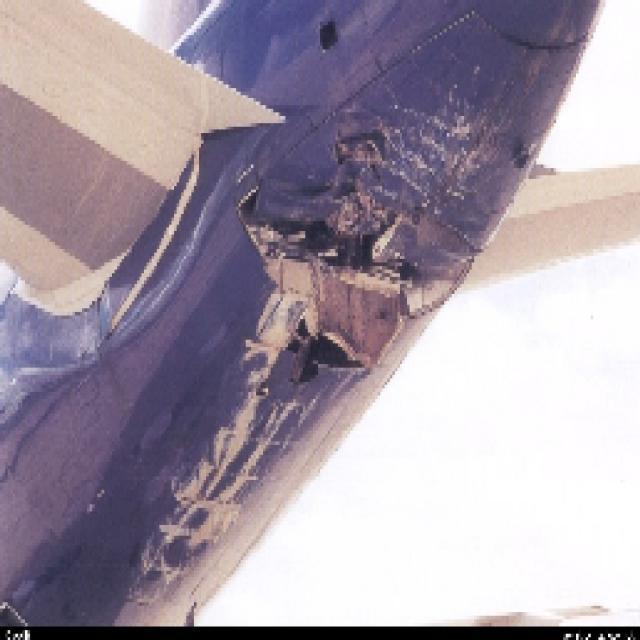crack: (233, 130, 417, 386)
